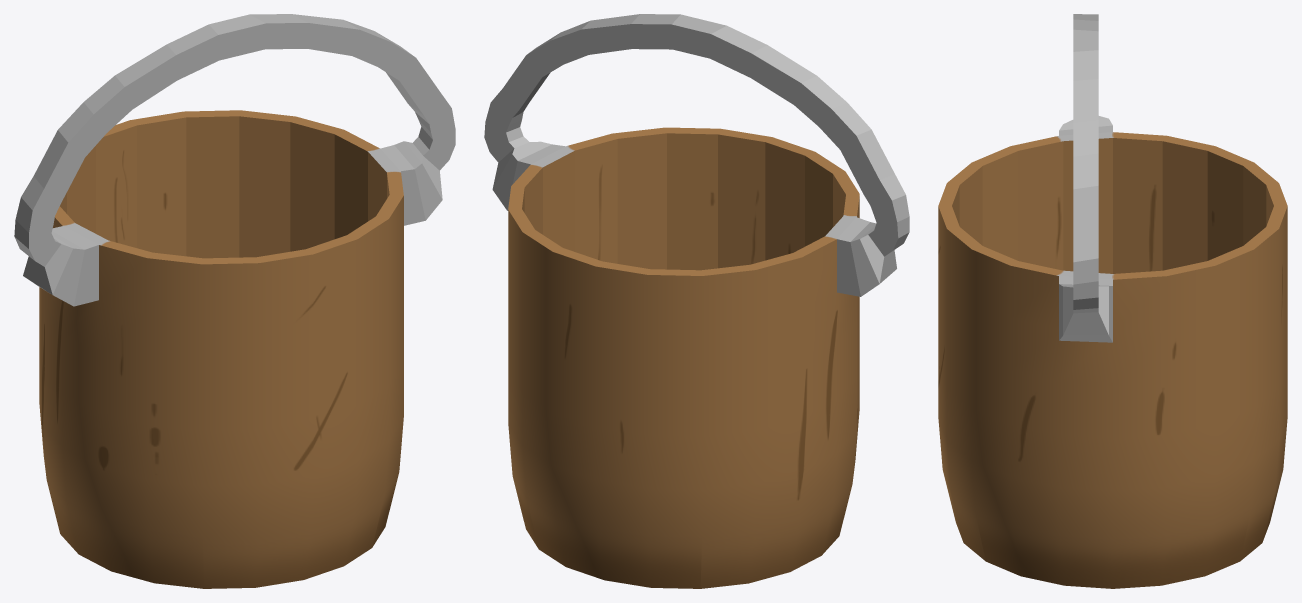
Rendered from Bucket.fbx.
3 views of the same model, side by side, from view 1: azimuth 30°, elevation 25°; view 2: azimuth 150°, elevation 25°; view 3: azimuth 270°, elevation 25° (orthographic). The views are drawn at different scales.
Visible parts, largest first — view 1: pCylinder1; view 2: pCylinder1; view 3: pCylinder1.
Boxes of the visible parts, left/top/right/bottom form: pCylinder1: left=14, top=14, right=455, bottom=588; pCylinder1: left=484, top=14, right=909, bottom=588; pCylinder1: left=938, top=14, right=1287, bottom=588.
Bounding box in the file's own units: 6.8 × 7.65 × 5.03.
